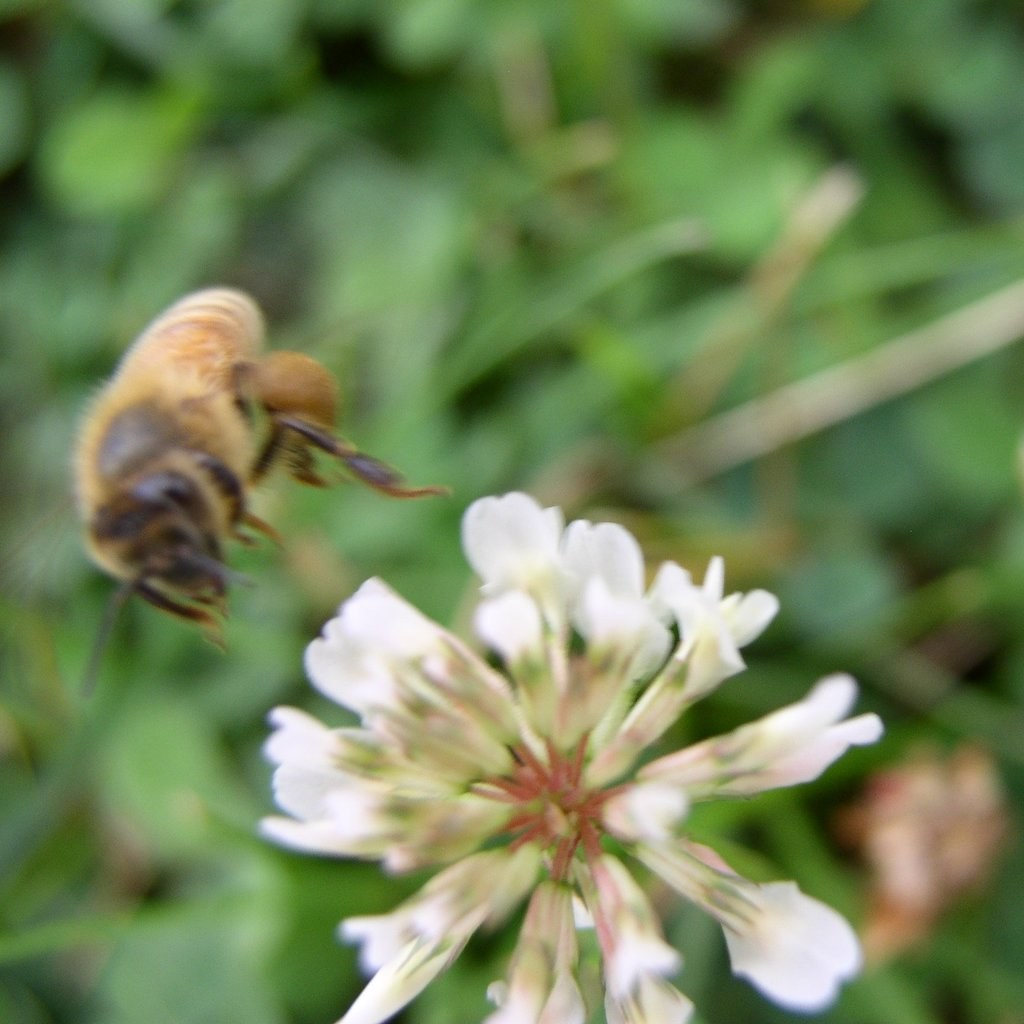bee: (37, 296, 410, 688)
insect: (266, 486, 829, 1016)
